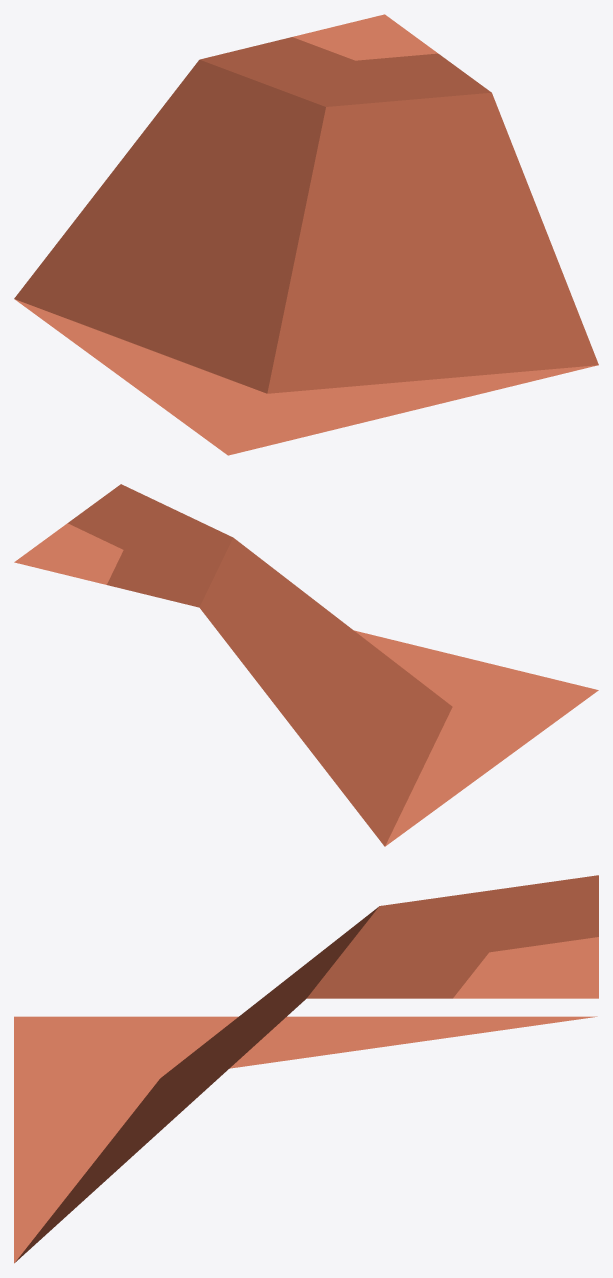
Rendered from terrain_sideCorner.glb.
The picture shows the model from 3 angles, top to bottom: view 1: azimuth 30°, elevation 25°; view 2: azimuth 150°, elevation 25°; view 3: azimuth 270°, elevation 25°; orthographic projection. The views are drawn at different scales.
Parts seen in each view (by area): view 1: terrain_sideCorner; view 2: terrain_sideCorner; view 3: terrain_sideCorner.
Boxes of the visible parts, x1,y1,x2,y2 form: terrain_sideCorner: (14,14,598,455); terrain_sideCorner: (14,484,598,846); terrain_sideCorner: (14,875,598,1263).
Size of the model in its own units: 1 by 0.5 by 1.
